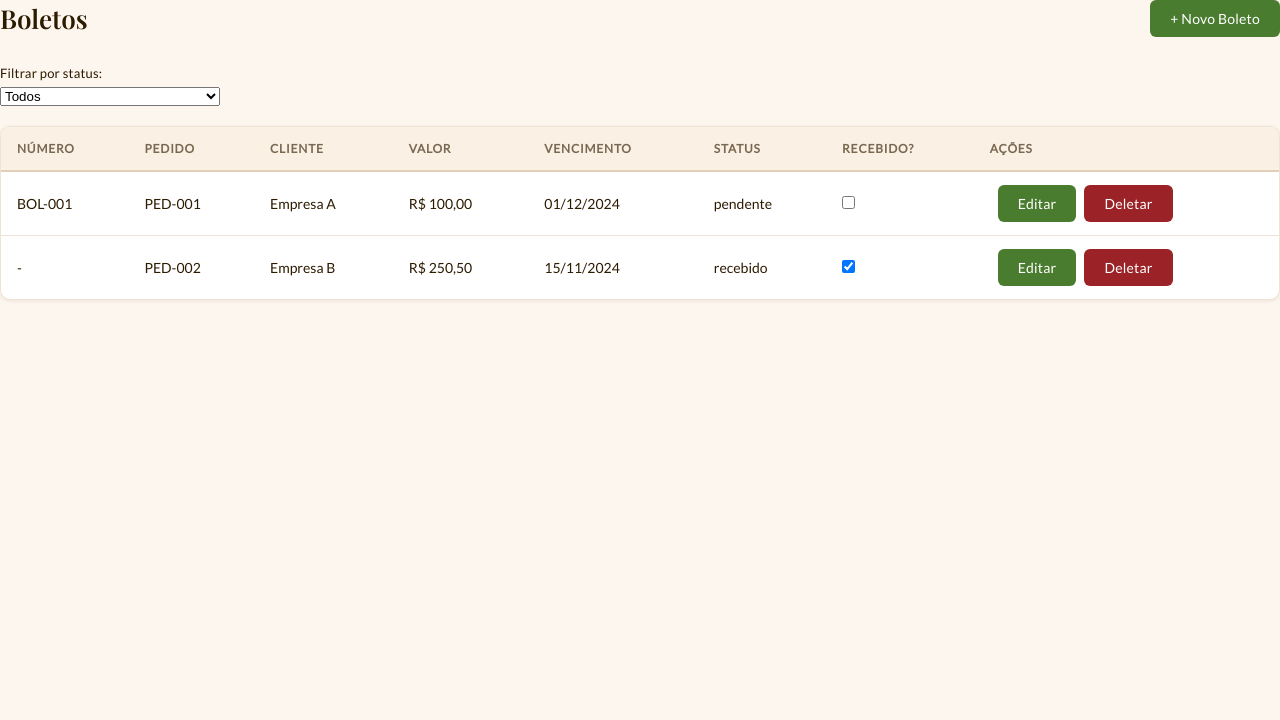
Boletos › preenche o valor automaticamente ao selecionar um pedido no novo boleto
The width and height of the screenshot is (1280, 720).
Expected: the text "BOL-001" is shown, [1,171,128,236]
Click the button "+ Novo Boleto": (1215, 18) [1150,0,1279,37]
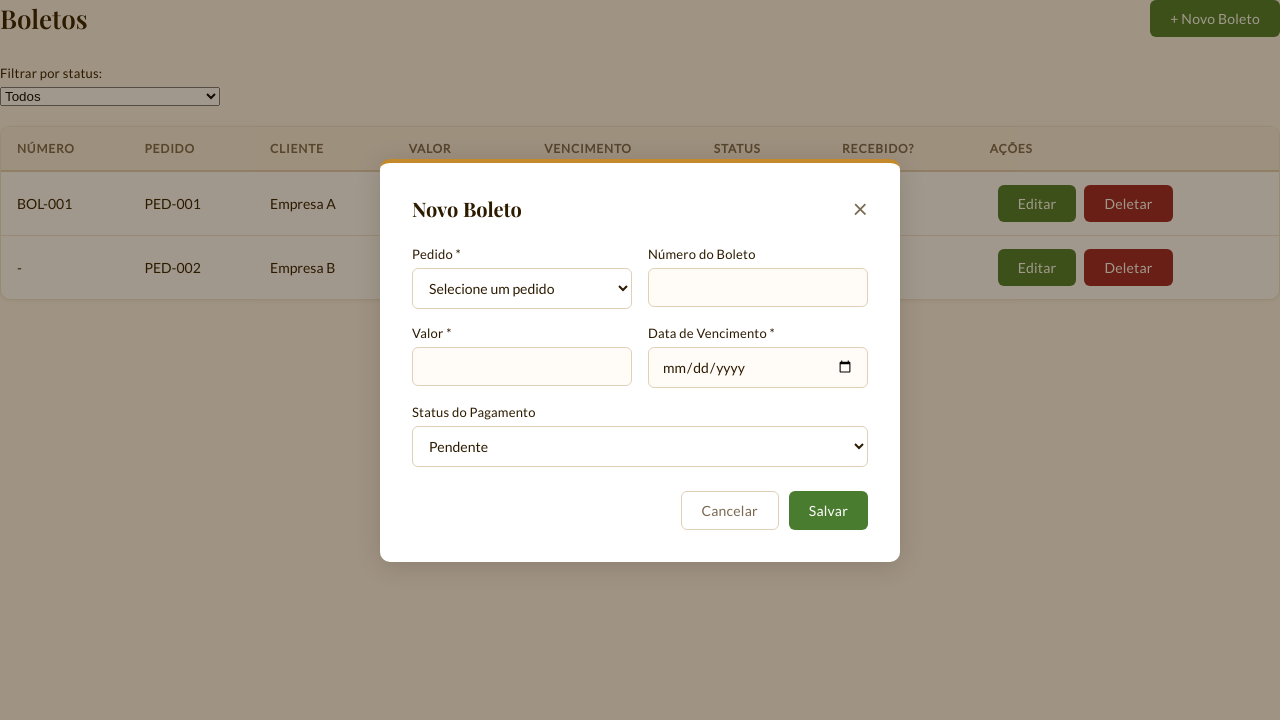
Select "PED-002 - Empresa B" in the dropdown below "Pedido *": (522, 288) [412,268,632,308]
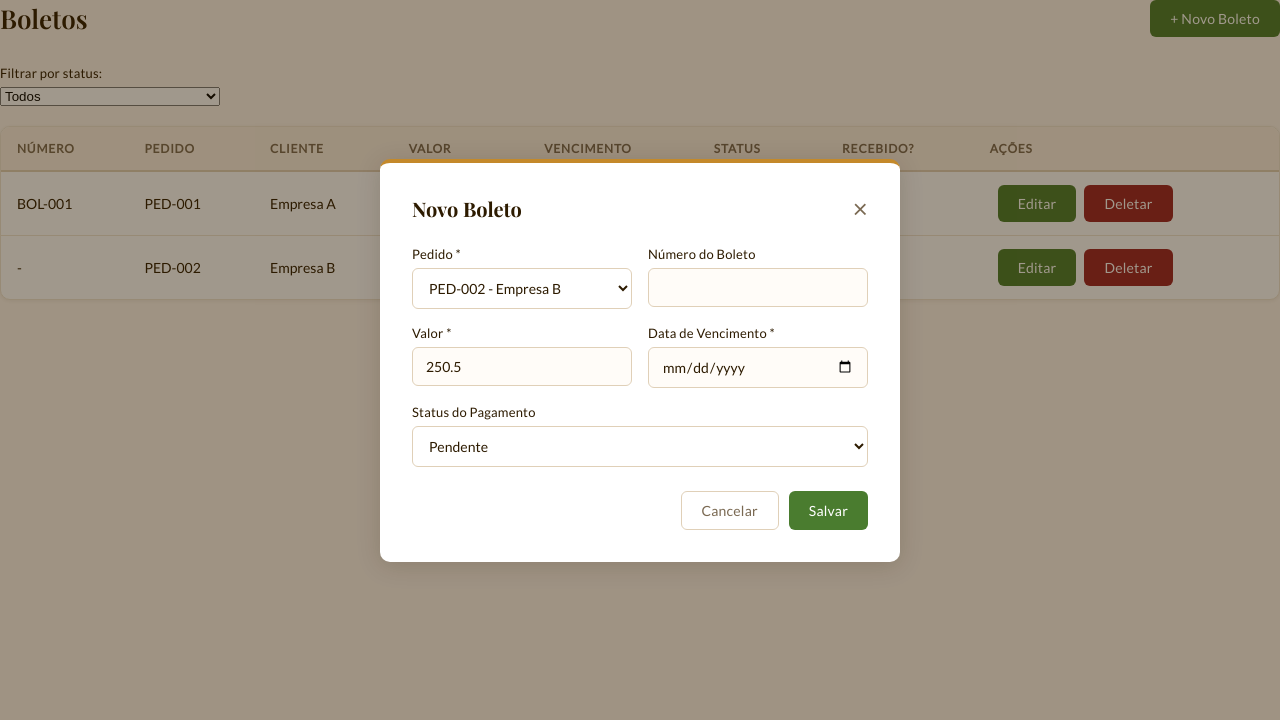
Now the number field showing "250.5" is shown, box [412,346,632,386]
